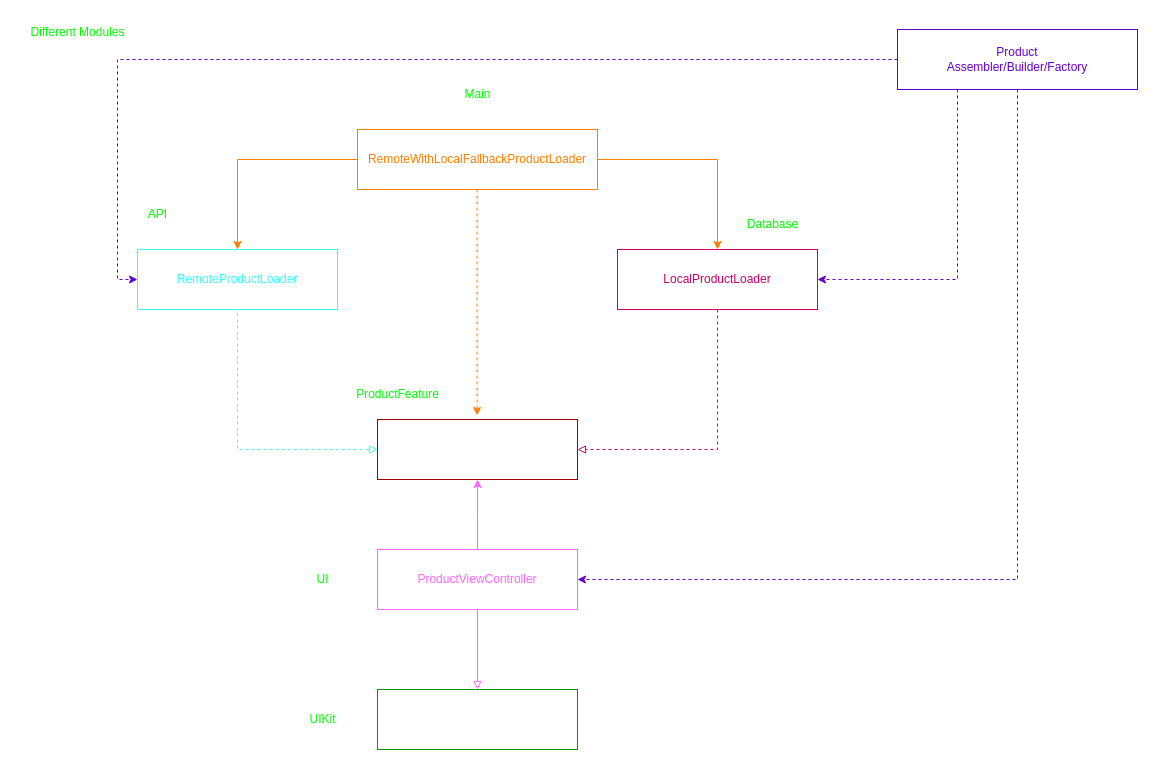
This 1155x767 diagram has some shape labels left out. The centre of each missing label's shape, as x and y in pixels:
"<ProductLoader>" goes at point 477,449.
"UIViewController" goes at point 477,719.
